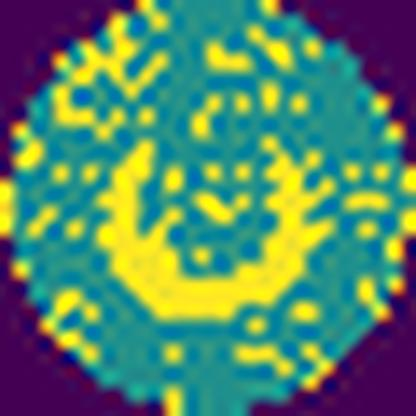Donut: (91, 119, 336, 326)
